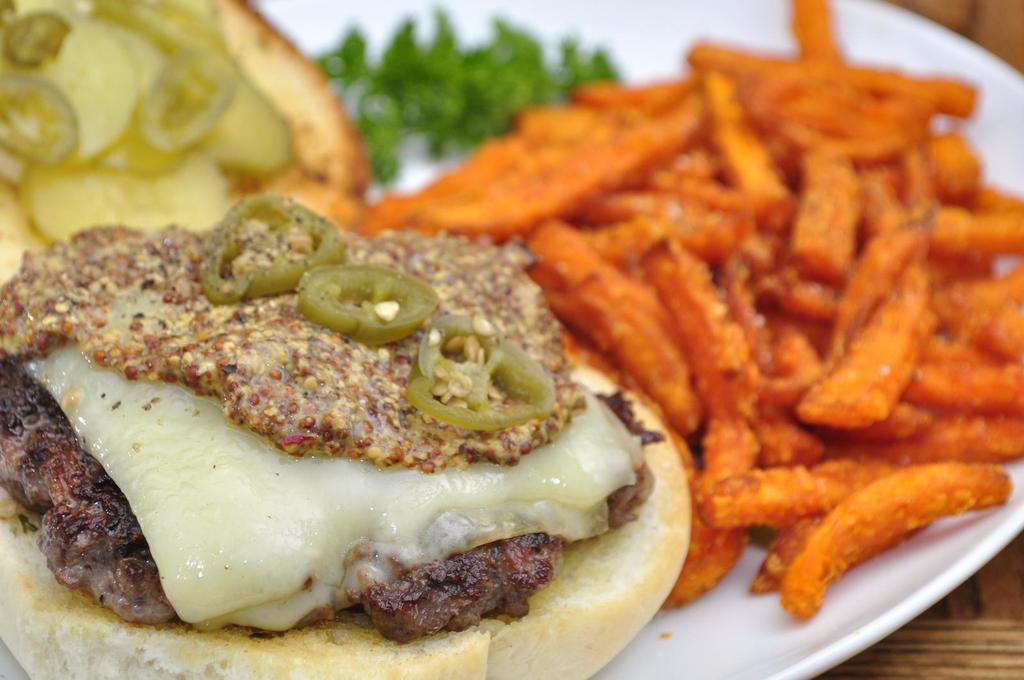French fries: (463, 44, 998, 656)
